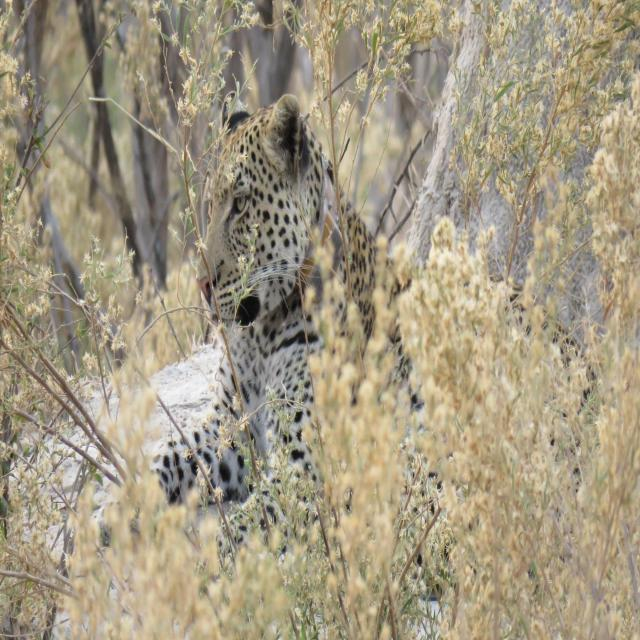Leopard: (105, 82, 620, 598)
